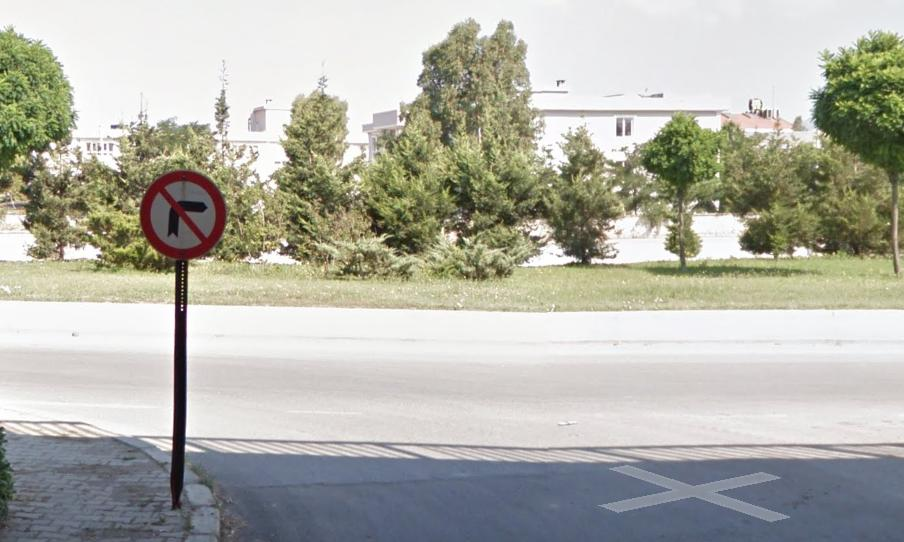rightturnsareforbidden: (146, 173, 221, 254)
